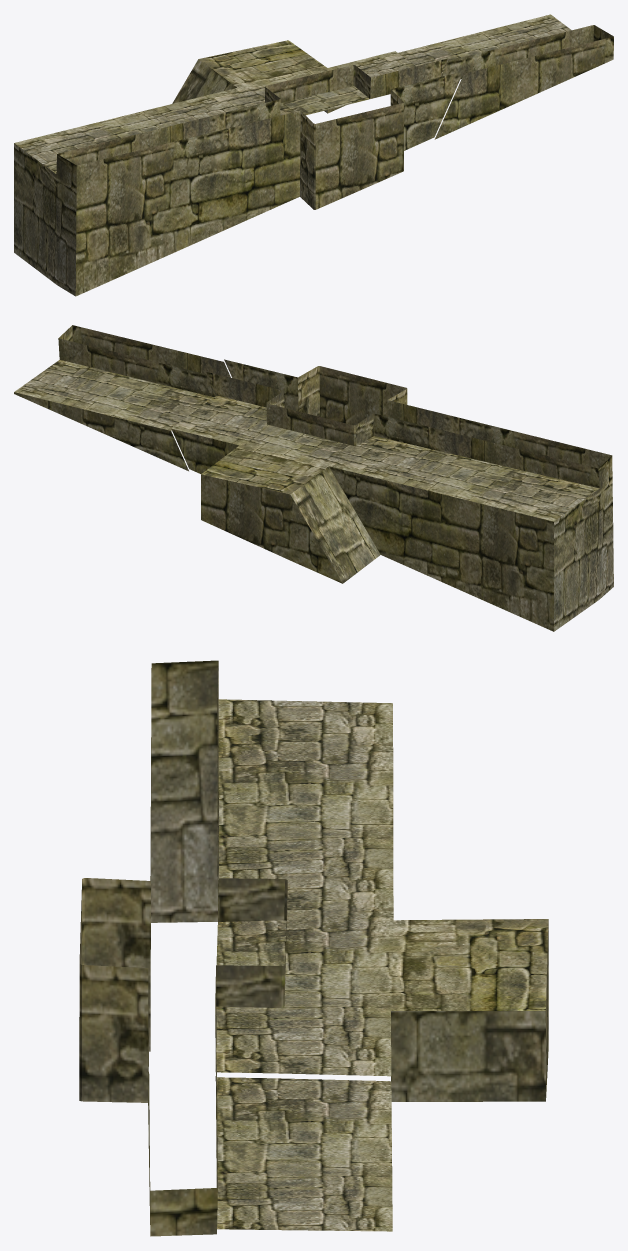
File: Wall_Mid_Sliced.FBX
The picture shows the model from 3 angles, top to bottom: view 1: azimuth 30°, elevation 25°; view 2: azimuth 150°, elevation 25°; view 3: azimuth 270°, elevation 25°; orthographic projection. The views are drawn at different scales.
Visible parts, largest first — view 1: Wall_Mid_2, Wall_Mid_1, Plane004, Wall_mid_3; view 2: Plane004, Wall_Mid_1, Wall_mid_3, Wall_Mid_2; view 3: Plane004, Wall_Mid_1, Wall_mid_3, Wall_Mid_2.
Boxes of the visible parts, <box> form: Wall_Mid_2: <box>95,71,463,236</box>; Wall_Mid_1: <box>14,88,210,296</box>; Plane004: <box>101,40,447,154</box>; Wall_mid_3: <box>398,14,613,139</box>; Plane004: <box>171,371,553,549</box>; Wall_Mid_1: <box>266,451,613,631</box>; Wall_mid_3: <box>14,325,230,471</box>; Wall_Mid_2: <box>224,359,593,462</box>; Plane004: <box>215,722,548,1101</box>; Wall_Mid_1: <box>150,660,548,1057</box>; Wall_mid_3: <box>148,1053,392,1236</box>; Wall_Mid_2: <box>79,786,151,1124</box>.
Size of the model in its own units: 1209 by 454 by 281.
Materials: 1 (1 with a texture image).
